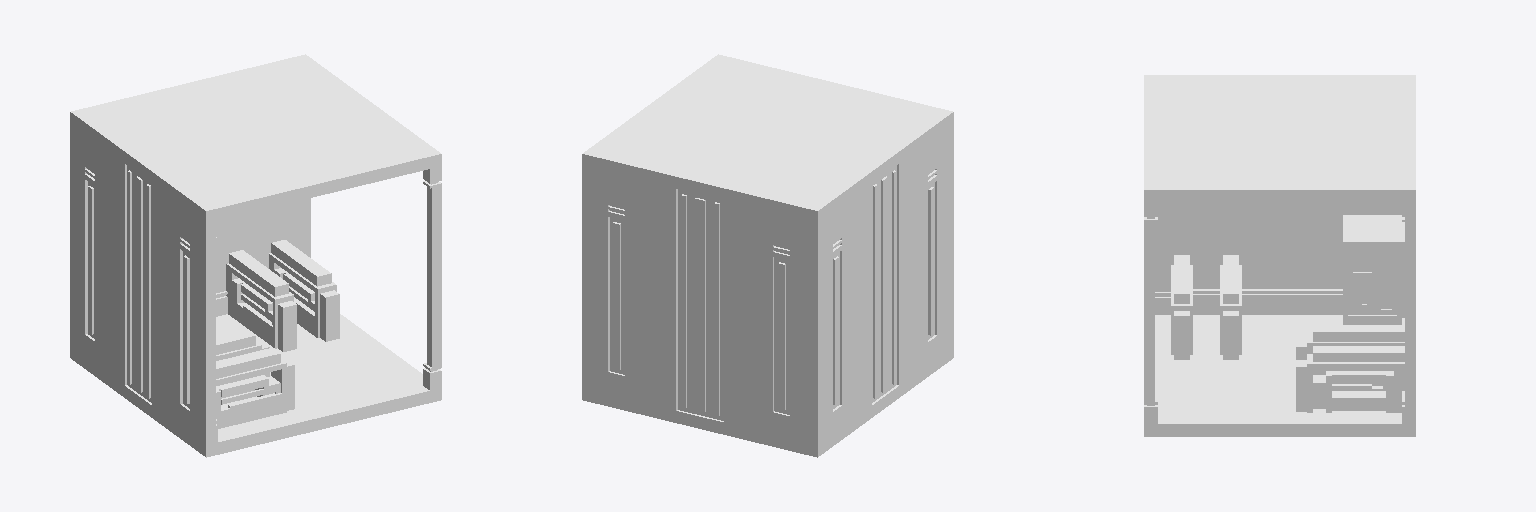
The model's file is corner_1.obj.
3 views of the same model, side by side, from view 1: azimuth 30°, elevation 25°; view 2: azimuth 150°, elevation 25°; view 3: azimuth 270°, elevation 25° (orthographic).
Visible parts, largest first — view 1: corner_1; view 2: corner_1; view 3: corner_1.
Boxes of the visible parts, x1,y1,x2,y2 form: corner_1: [70, 54, 441, 457]; corner_1: [582, 54, 953, 457]; corner_1: [1144, 75, 1415, 436].
Bounding box in the file's own units: 100 × 100 × 100.